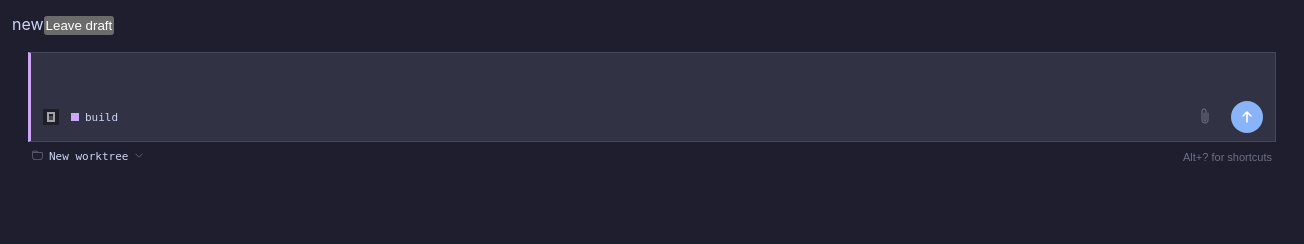
Test case: new-conversation submission lifecycle › shows a delayed shell failure on the child and retries without overwriting its draft
Type "!echo original" into the text box at (653, 75), box [31, 53, 1275, 97]
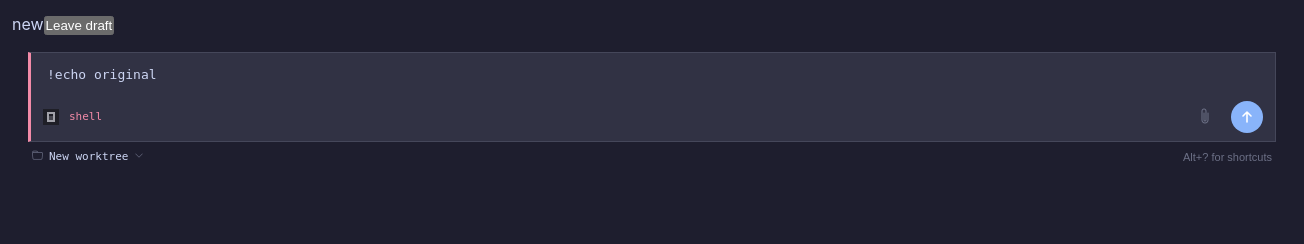
Press Enter in the text box, box [31, 53, 1275, 97]
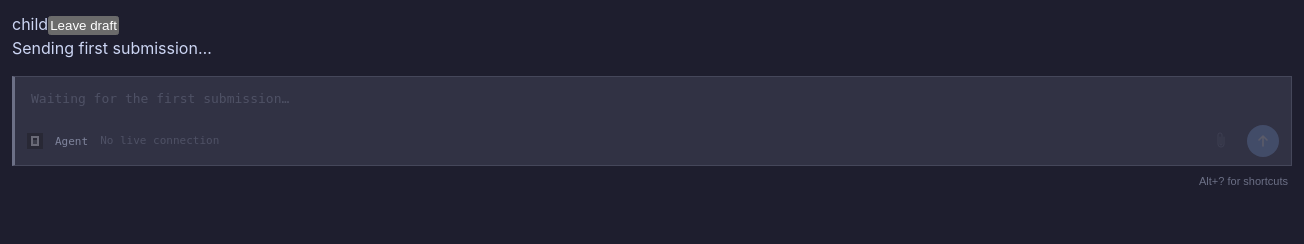
Expected: the text with test id "route" reads "child", [12, 14, 48, 34]
Type "new follow-up" into the text box at (653, 99), box [15, 77, 1291, 121]
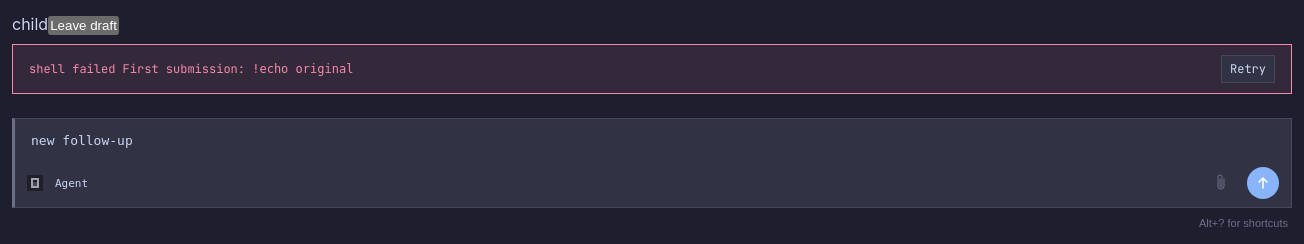
Expected: the message shows "shell failed", [29, 61, 115, 77]
Click the button "Retry" at (1248, 69), box [1221, 55, 1275, 83]
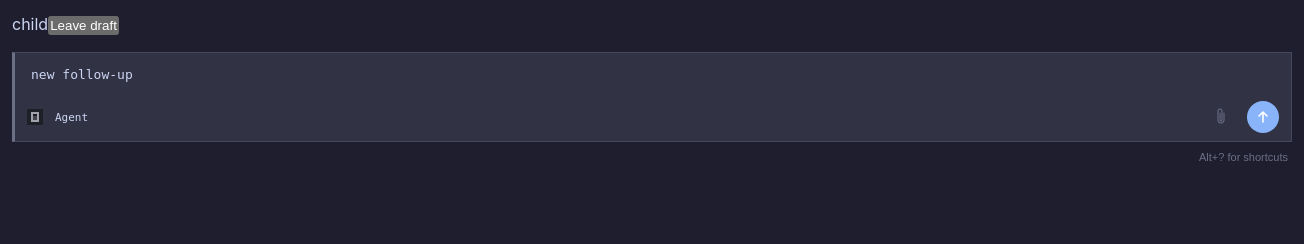
Expected: the message "shell failed First submission: !echo original Retry" is gone
